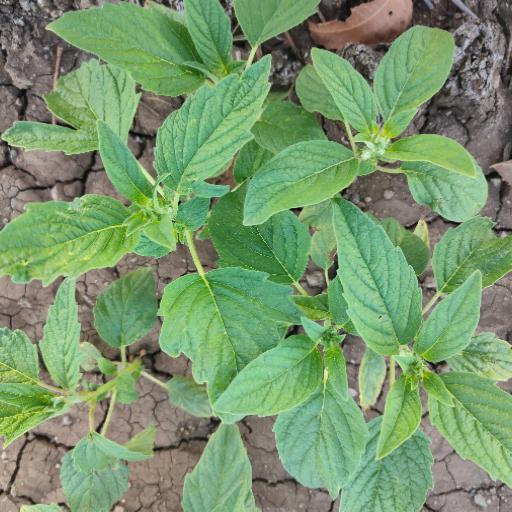crop: (1, 4, 512, 486)
